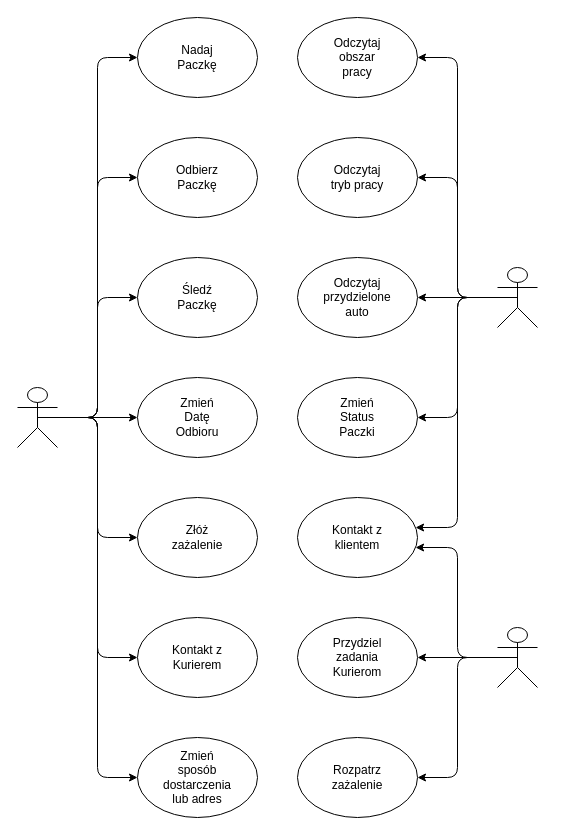
Image size: 571x835. Some labels were removed from this diagram. Each missing label, with the centre of its shape:
Administracja: the point at 517,657
Klient: the point at 37,417
Kurier: the point at 517,297
